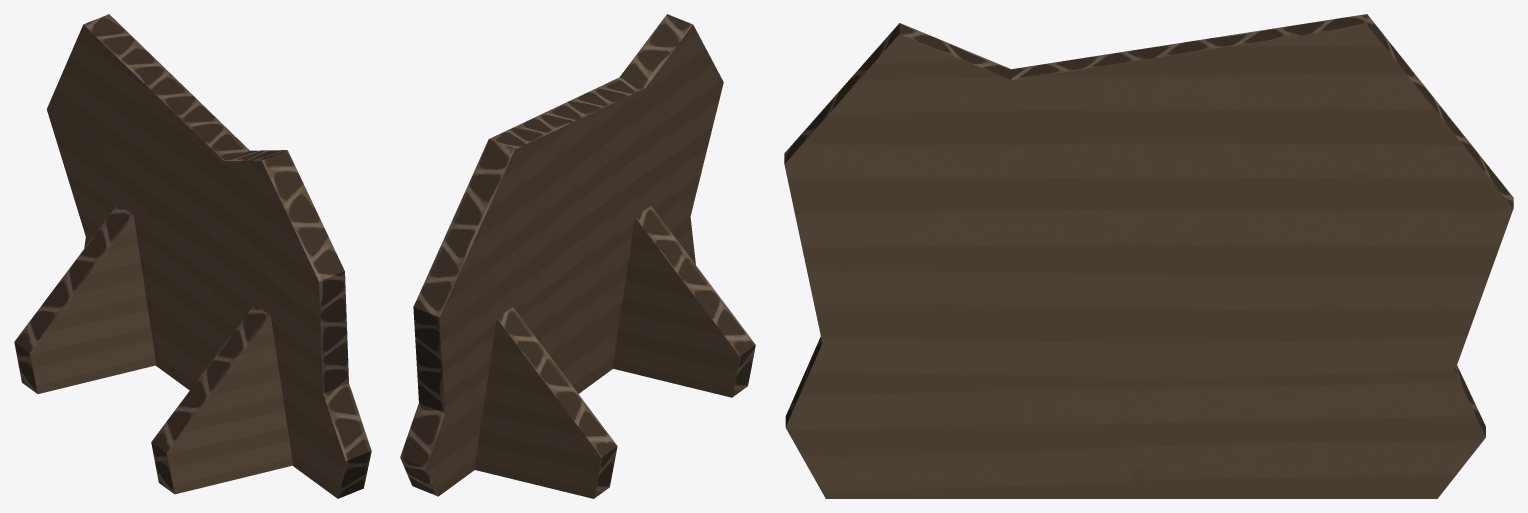
Rendered from pig.fbx.
3 views of the same model, side by side, from view 1: azimuth 30°, elevation 25°; view 2: azimuth 150°, elevation 25°; view 3: azimuth 270°, elevation 25° (orthographic). The views are drawn at different scales.
Parts seen in each view (by area): view 1: pCube25; view 2: pCube25; view 3: pCube25.
Part boxes in pixels (box(x1,y1,x2,y2)): pCube25: box(14, 14, 371, 498); pCube25: box(400, 14, 755, 498); pCube25: box(784, 14, 1513, 498).
Bounding box in the file's own units: 1.01 × 2.15 × 3.17.
1 material, 1 textured.
